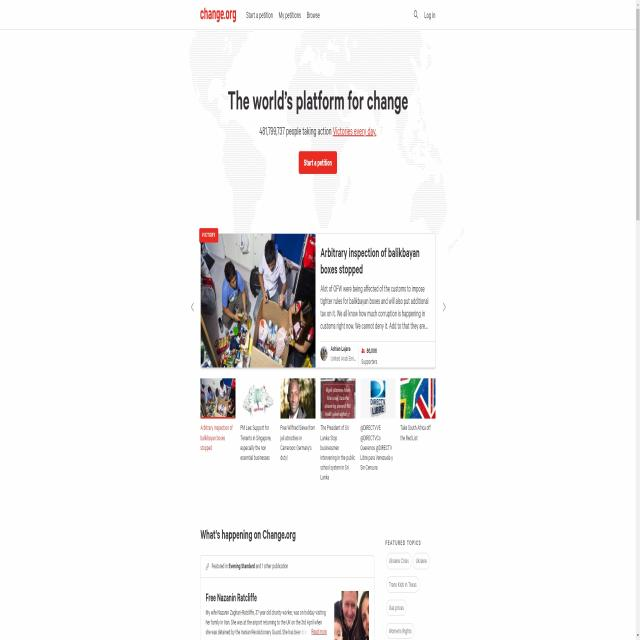menu-bar: (410, 4, 442, 24)
tab-bar: (198, 3, 322, 24)
